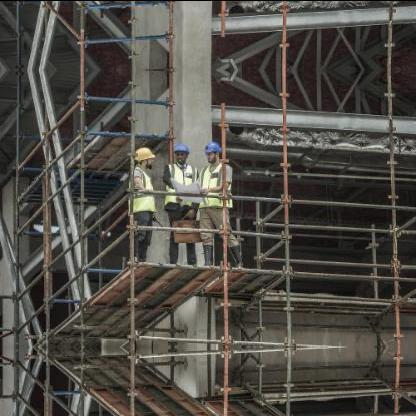Helmet: (132, 144, 154, 166), (202, 138, 221, 162), (172, 140, 190, 162)
